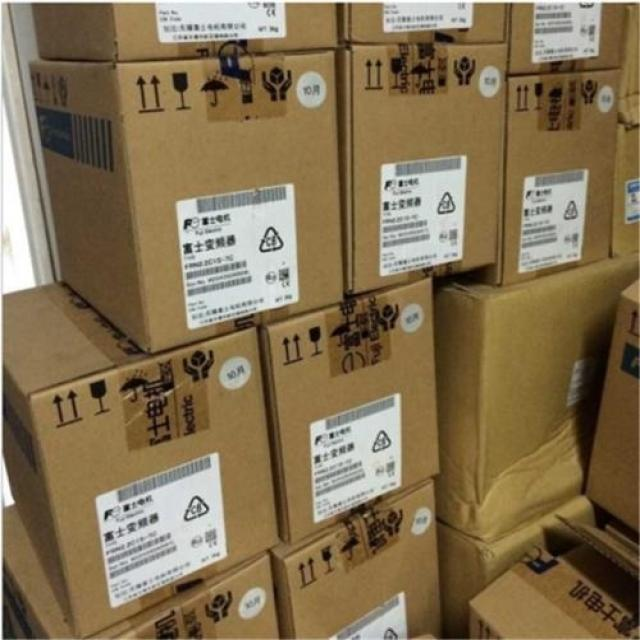box: (4, 280, 282, 639), (29, 51, 344, 351), (435, 249, 639, 540), (261, 278, 440, 547), (340, 42, 510, 292), (3, 502, 281, 639), (464, 65, 620, 285), (268, 477, 446, 638), (439, 493, 602, 638), (469, 514, 639, 638), (32, 4, 343, 63), (585, 277, 639, 529), (509, 2, 627, 78), (341, 6, 511, 45), (611, 97, 639, 257), (618, 4, 639, 103)
